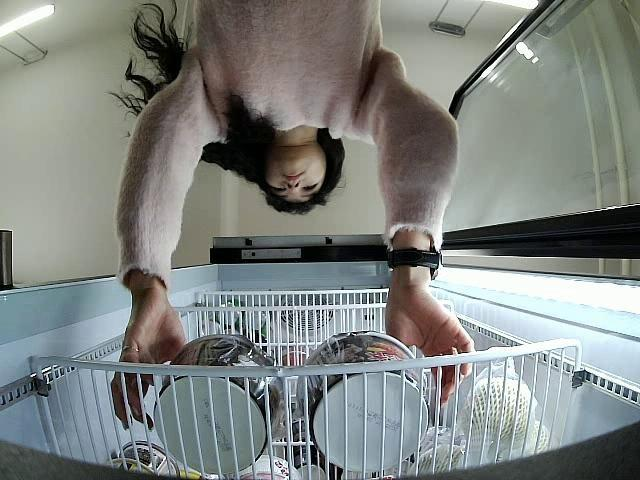07_buldak_L: (296, 331, 430, 470), (156, 338, 281, 471)
